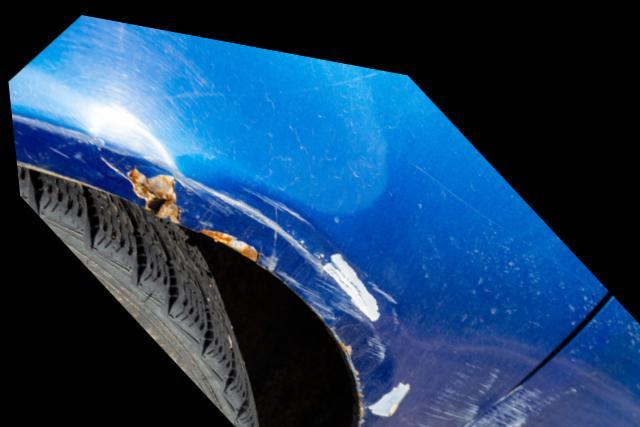rub: (433, 364, 576, 427)
scratch: (134, 142, 397, 371), (385, 340, 513, 427)
